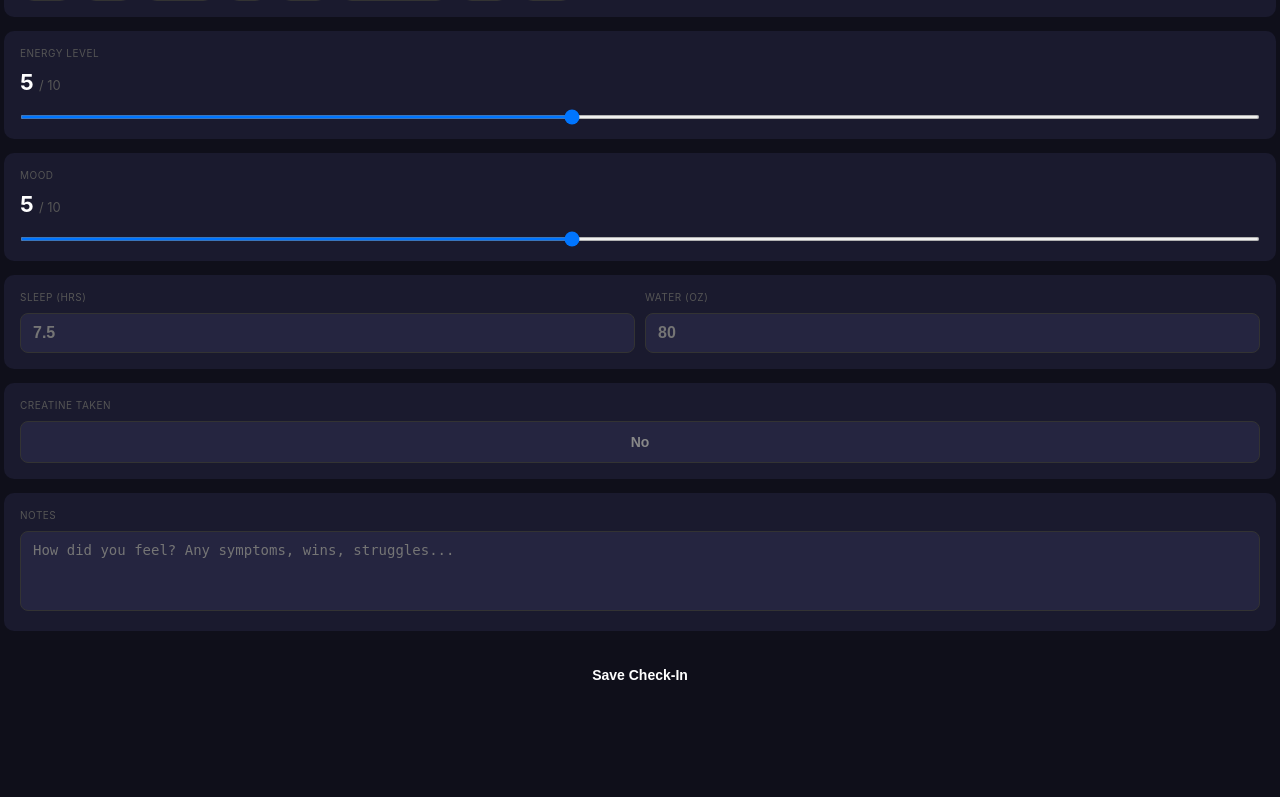
Test: WellnessLogger › save button is disabled while saving
(page scrolled)
Click the button "Save Check-In": (640, 675) [4,653,1276,697]
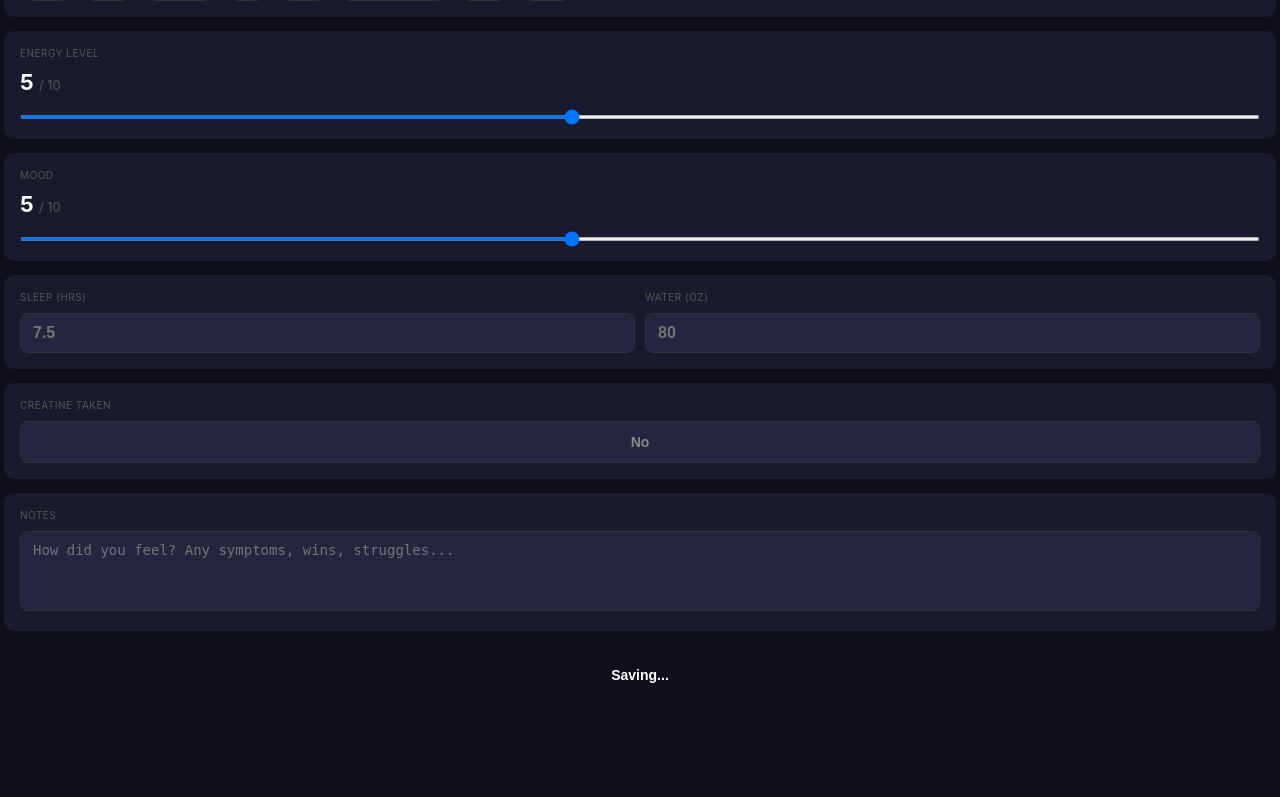
Now the button "Saving..." is disabled, box [4,653,1276,697]
